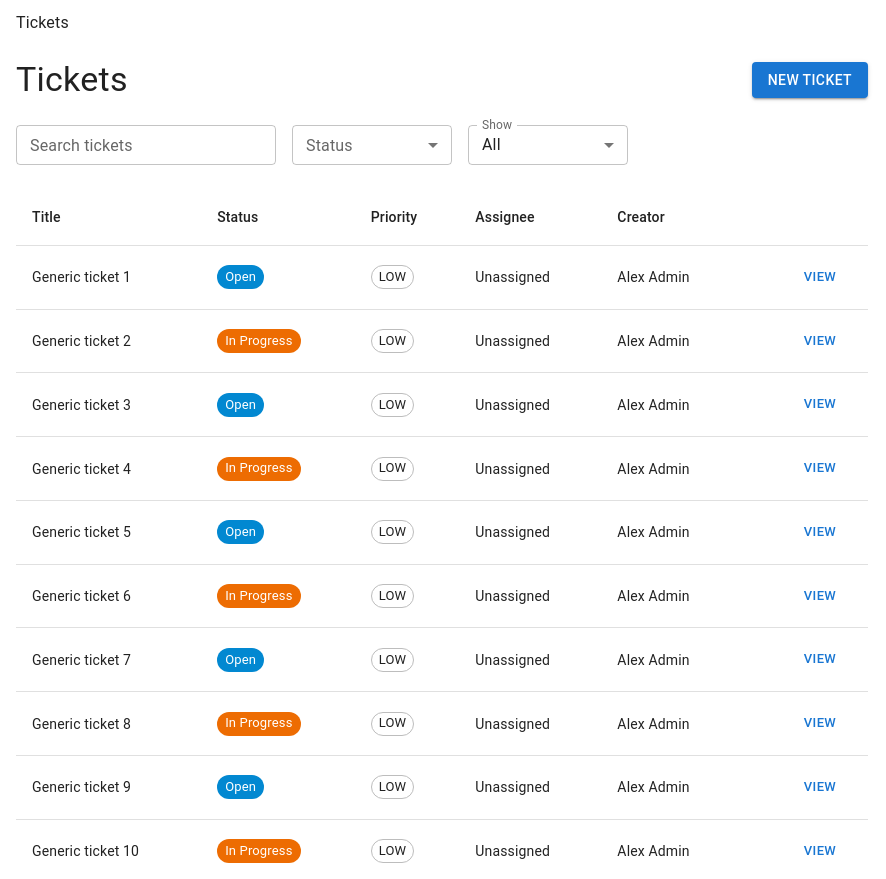
Test case: Search and filter tickets › narrows the list to tickets matching a keyword in title or description (FR-007)
This screenshot has width=886, height=879.
Check: the text "Generic ticket 1" is shown, box [16,246,201,309]
Type "VPN" into the field labelled "Search tickets".
click(146, 145); type("VPN")  # box [16,125,276,165]
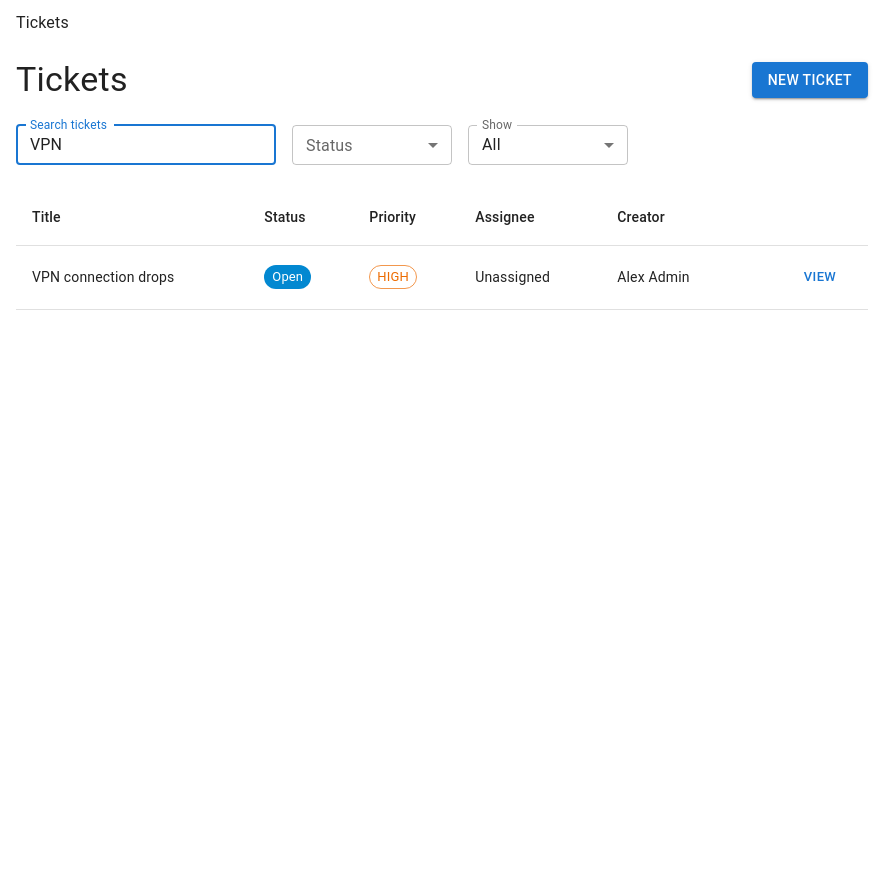
Check: the text "VPN connection drops" is shown, box [16,246,248,309]
Check: the text "Generic ticket 1" is gone
